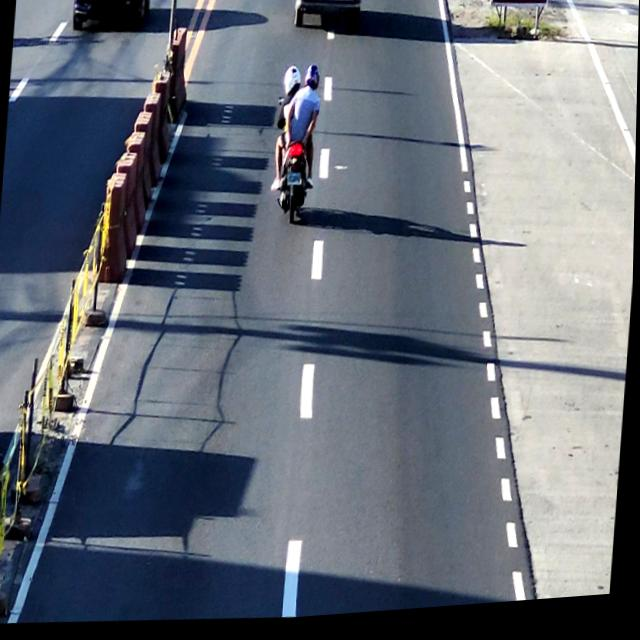Car: (289, 0, 368, 37)
License-Plate: (286, 174, 304, 191)
Motorcycle: (270, 65, 325, 231)
